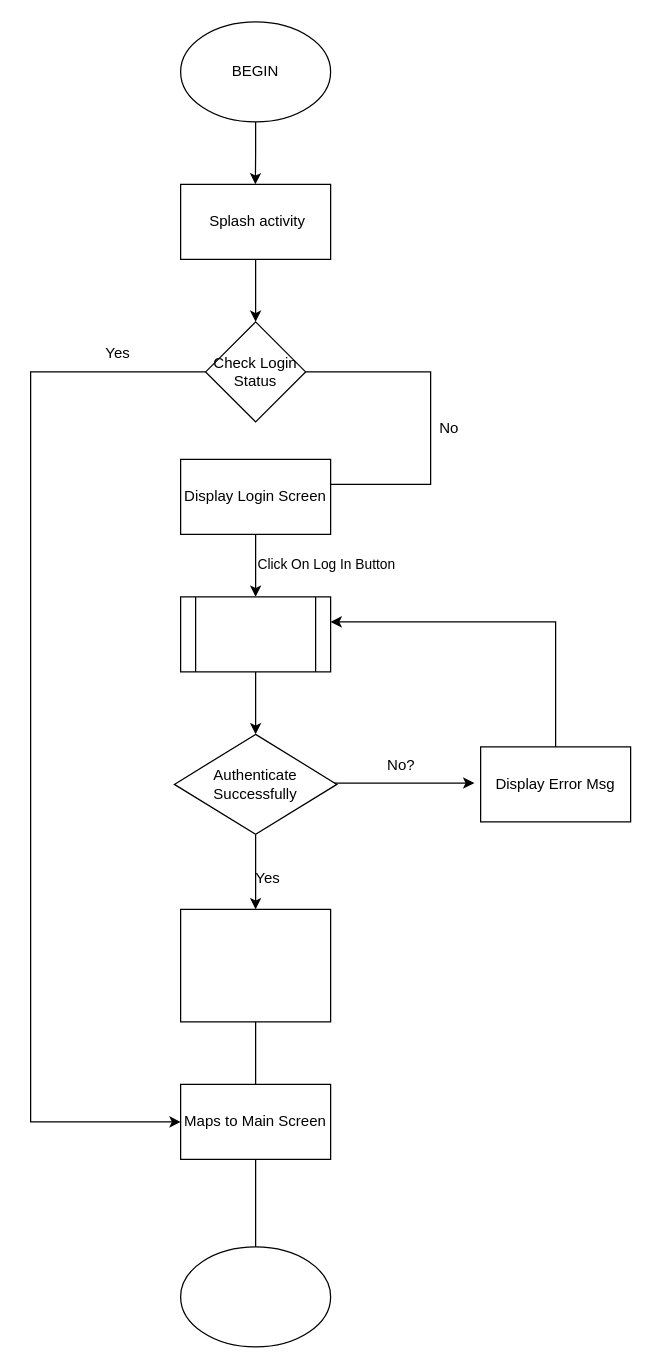
Image size: 653x1369. Some labels were removed from this diagram. The centre of each missing label's shape, as x and y in pixels:
"END" goes at point (255, 1296).
"Execute AuPk2 Process" goes at point (255, 634).
"Store Token" goes at point (255, 965).
